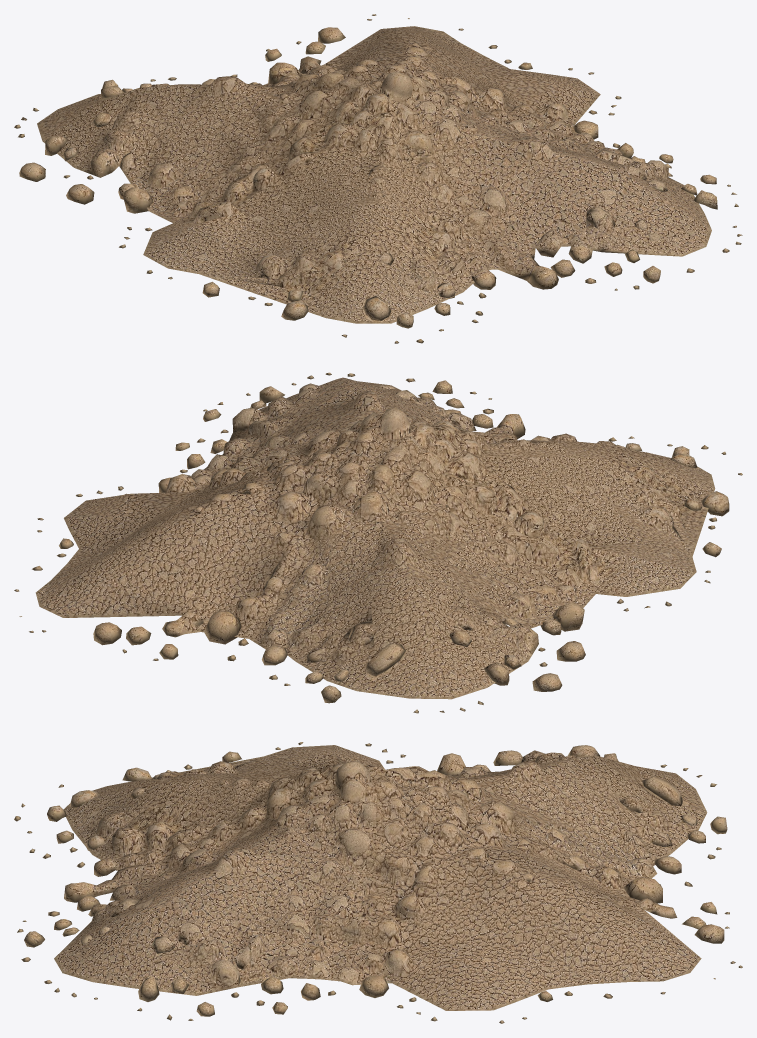
The model's file is tripo_convert_2c66fc22-ef63-499f-90f4-1f46382ab13d.fbx.
3 views of the same model, one above another, from view 1: azimuth 30°, elevation 25°; view 2: azimuth 150°, elevation 25°; view 3: azimuth 270°, elevation 25° (orthographic). The views are drawn at different scales.
Visible parts, largest first — view 1: tripo_node_2c66fc22; view 2: tripo_node_2c66fc22; view 3: tripo_node_2c66fc22.
Boxes of the visible parts, x1=… form: tripo_node_2c66fc22: x1=14, y1=14, x2=742, y2=343; tripo_node_2c66fc22: x1=14, y1=372, x2=742, y2=713; tripo_node_2c66fc22: x1=14, y1=742, x2=742, y2=1023.
Size of the model in its own units: 0.9082 by 0.1973 by 0.998.
Materials: 1 (1 with a texture image).
